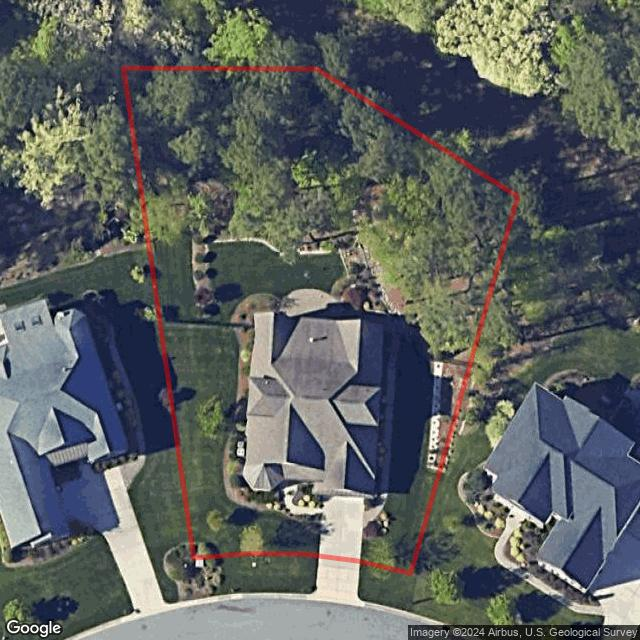Driveway: (317, 495, 365, 562)
Extra-Driveway: (309, 557, 364, 604)
Extra-Lawn: (195, 553, 319, 598), (357, 560, 412, 611)
House: (242, 311, 386, 497)
Lawn: (123, 67, 519, 573)
Other: (124, 65, 517, 473), (224, 288, 357, 511), (376, 330, 400, 491)
Sidewalk: (285, 484, 321, 515), (363, 494, 388, 528)
